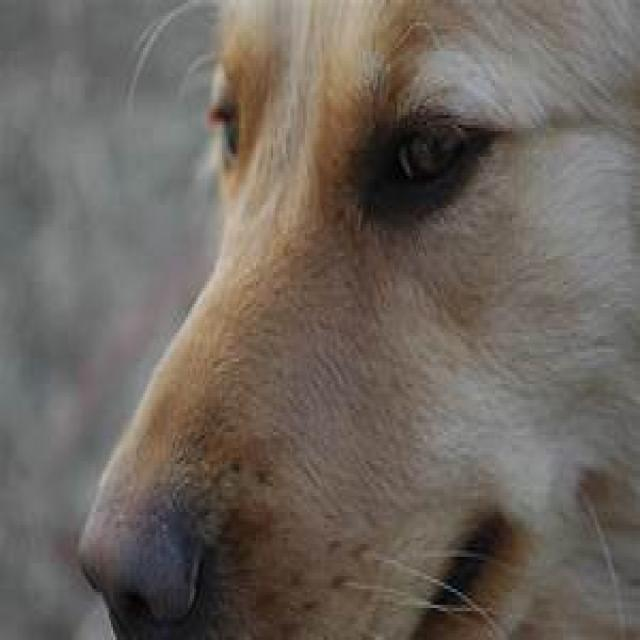dog: (80, 5, 640, 637)
